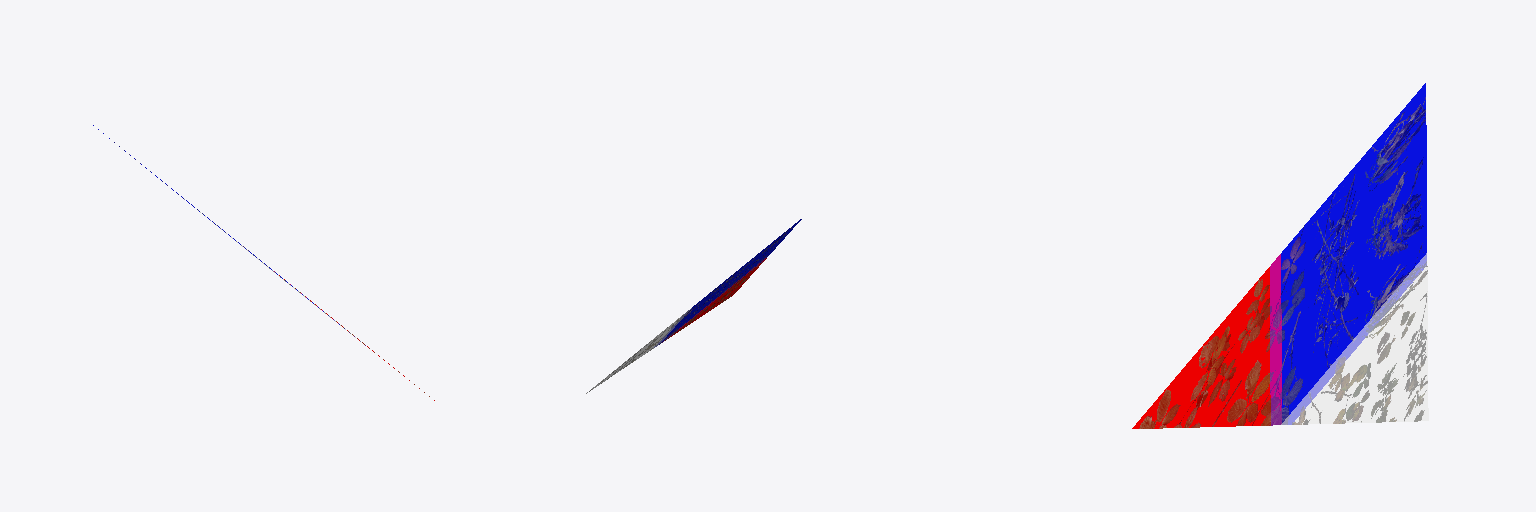
3 views of the same model, side by side, from view 1: azimuth 30°, elevation 25°; view 2: azimuth 150°, elevation 25°; view 3: azimuth 270°, elevation 25° (orthographic).
Parts seen in each view (by area): view 1: none; view 2: sponza_00; view 3: sponza_00.
Boxes of the visible parts, <box> form: sponza_00: <box>586,219,801,393</box>; sponza_00: <box>1132,83,1428,428</box>.
Size of the model in its own units: 424 by 444 by 497.
1 materials, 1 textured.